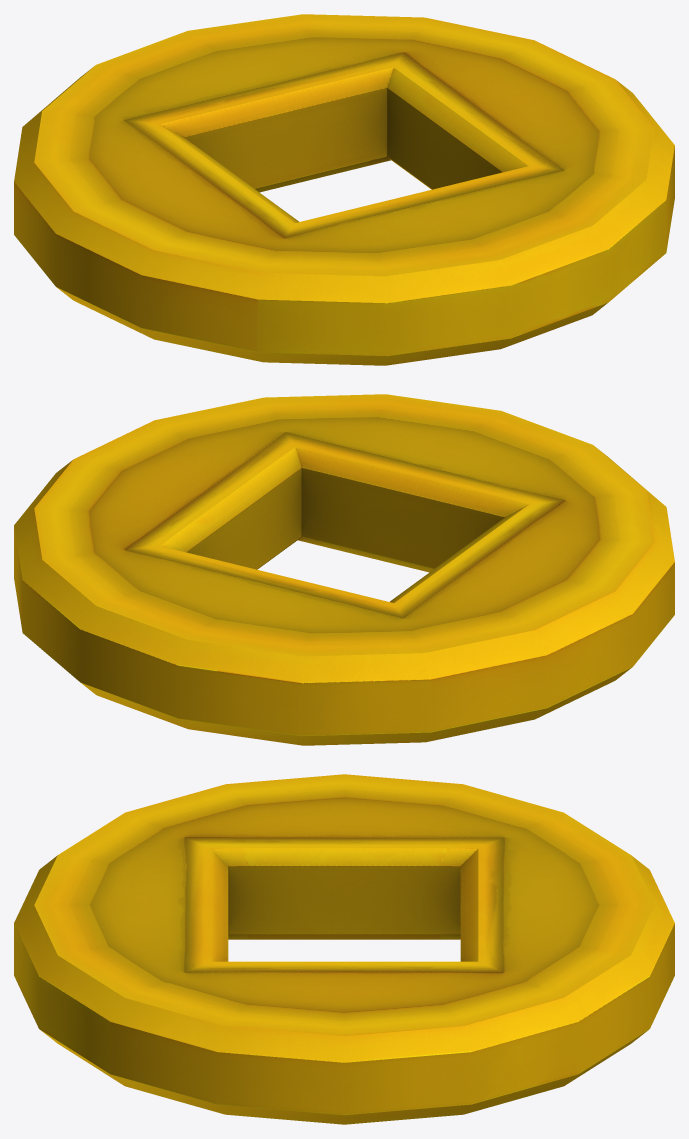
The model's file is coin2tex.fbx.
The picture shows the model from 3 angles, top to bottom: view 1: azimuth 30°, elevation 25°; view 2: azimuth 150°, elevation 25°; view 3: azimuth 270°, elevation 25°; orthographic projection.
Visible parts, largest first — view 1: coin2tex; view 2: coin2tex; view 3: coin2tex.
Part boxes in pixels (<box>): coin2tex: <box>14,14,674,365</box>; coin2tex: <box>14,394,674,745</box>; coin2tex: <box>14,774,674,1124</box>.
Bounding box in the file's own units: 0.2998 × 0.0444 × 0.3001.
